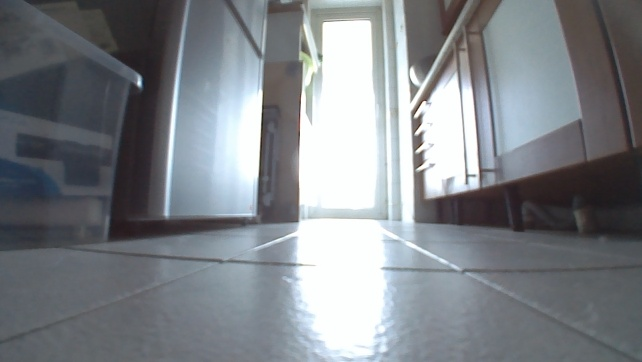cupboard: (405, 0, 641, 233)
refrigerator: (107, 0, 274, 228)
